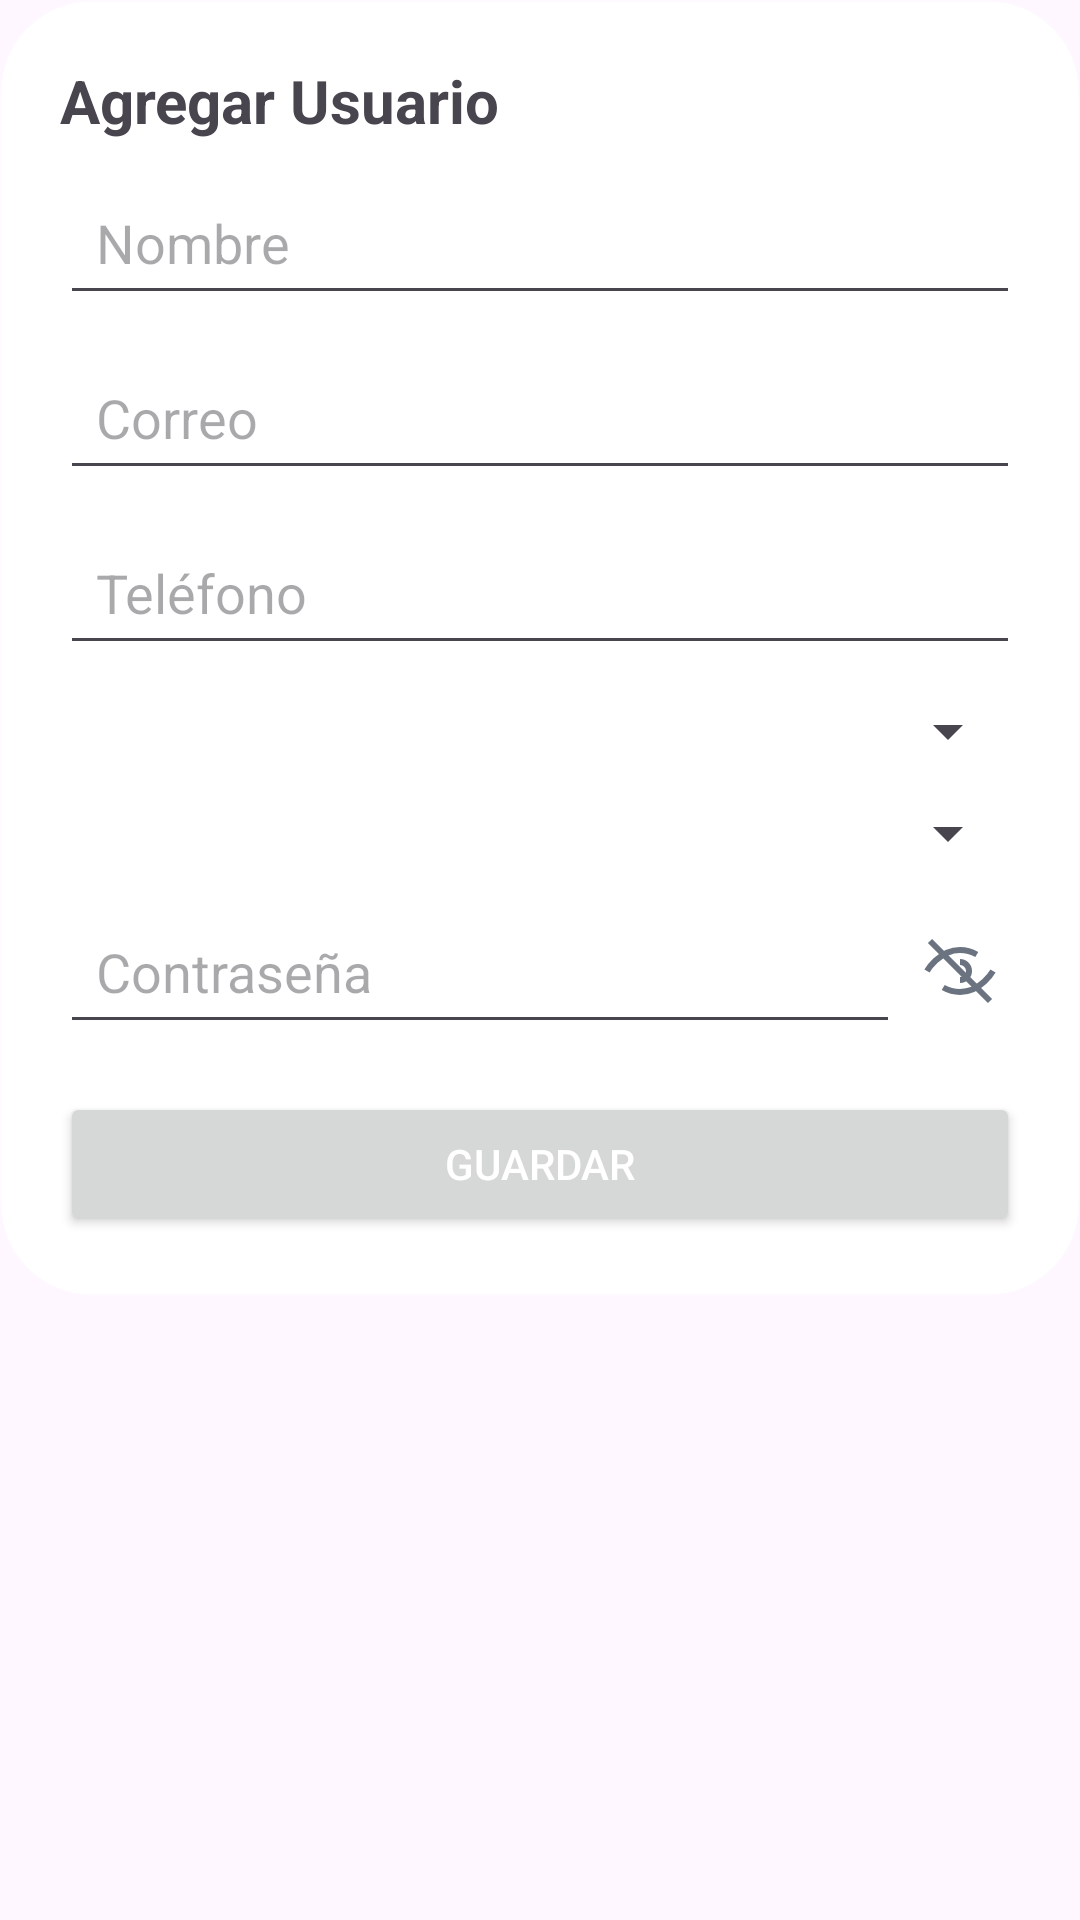

Locate icon controls on the screen. Image size 1080px×1920px, boxes as (x1, y1, x2, y2).
eye off: (924, 939, 996, 1003)
